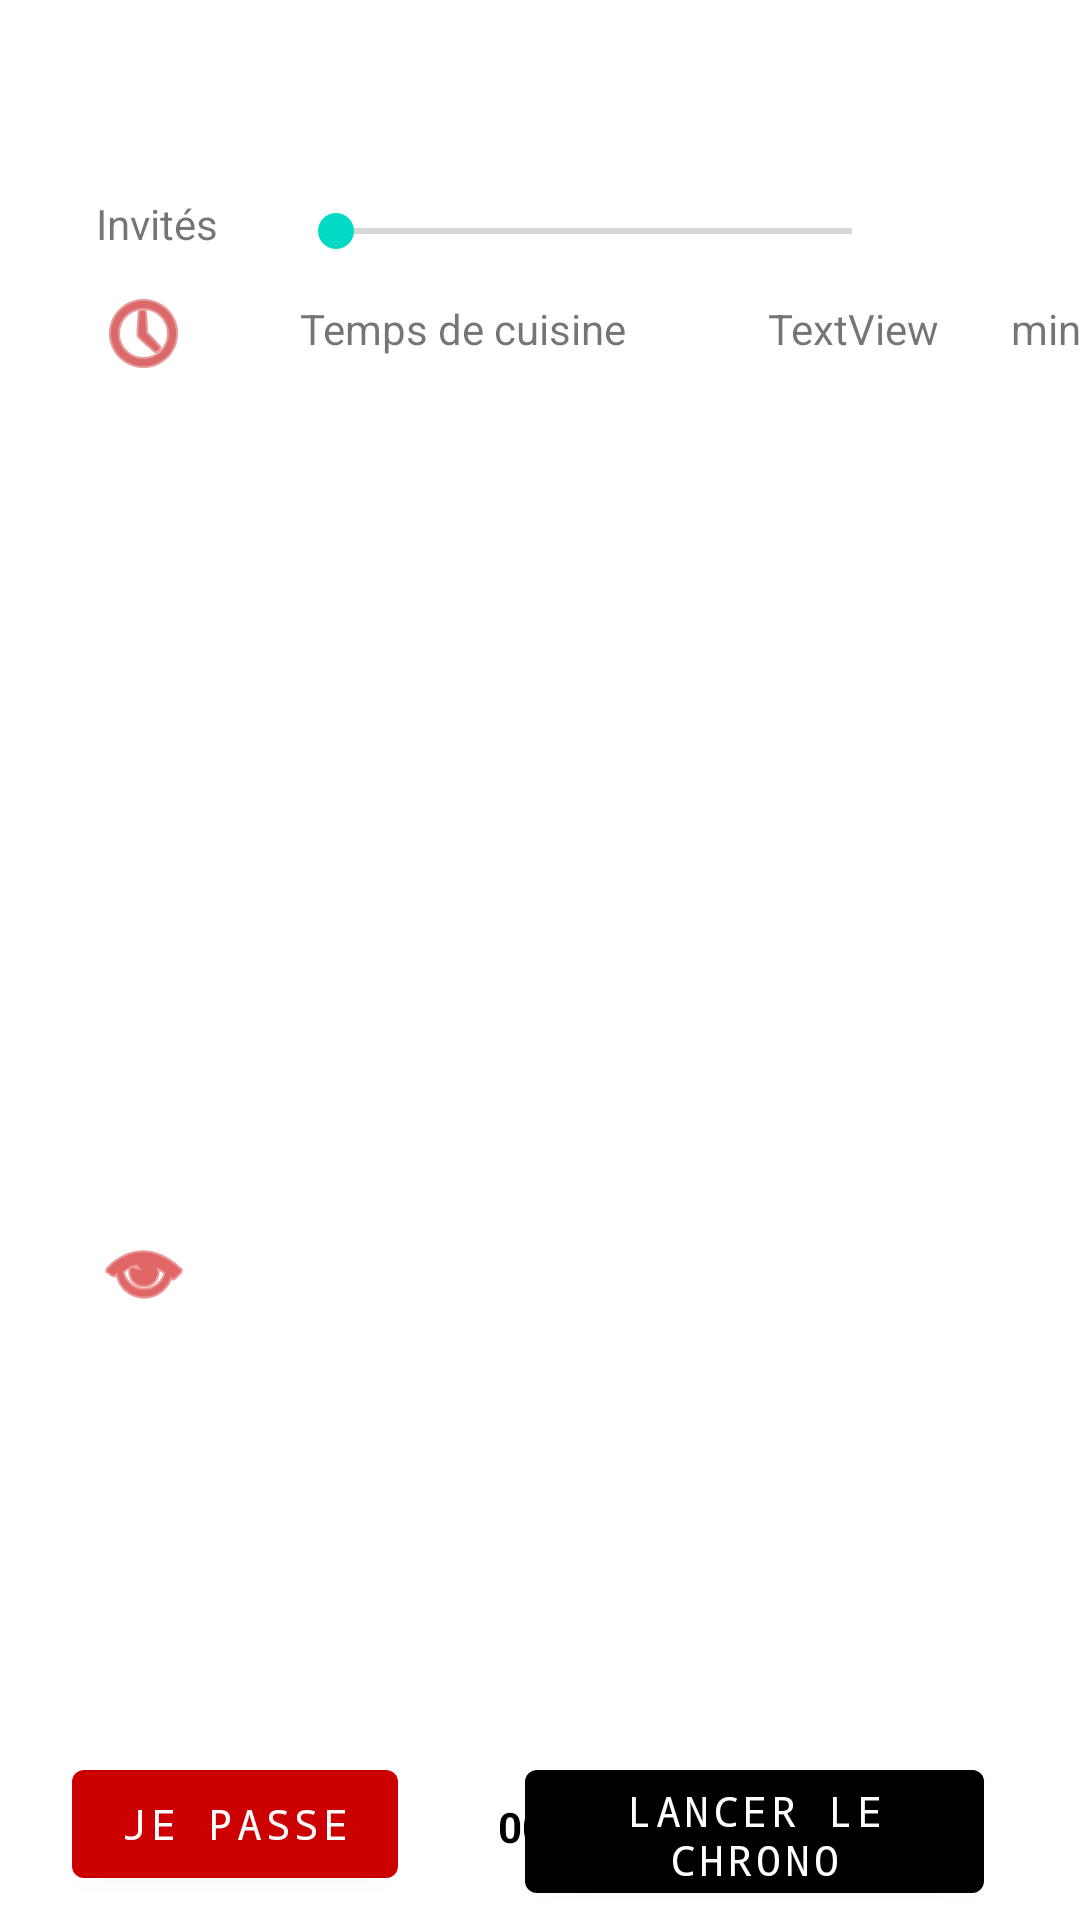

Screen size 1080×1920. Icon name, then its center in pixels as (x,y):
recent history: (143,333)
view: (144,1274)
